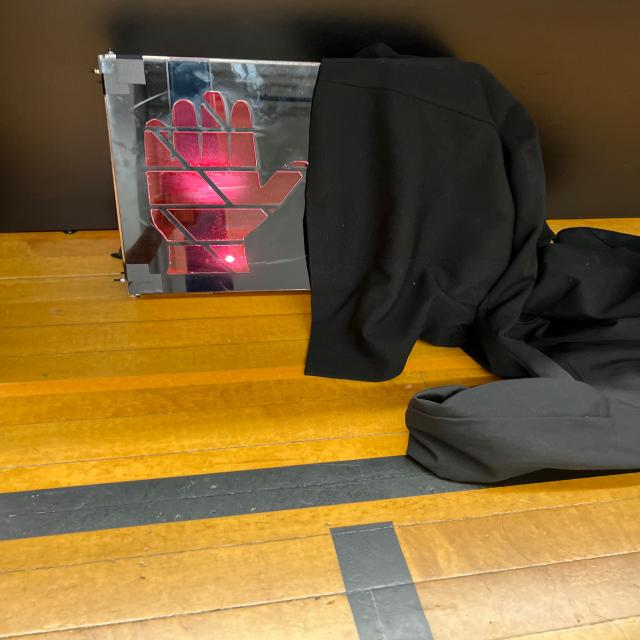stop: (133, 64, 305, 298)
